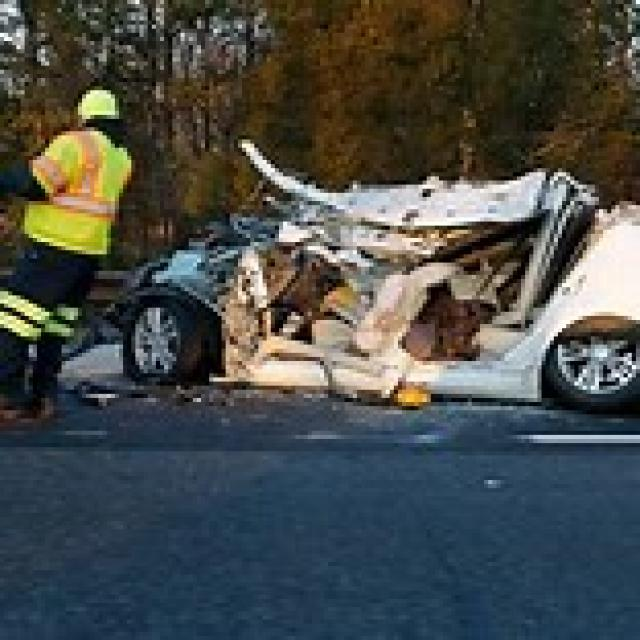Accident: (130, 73, 584, 454)
